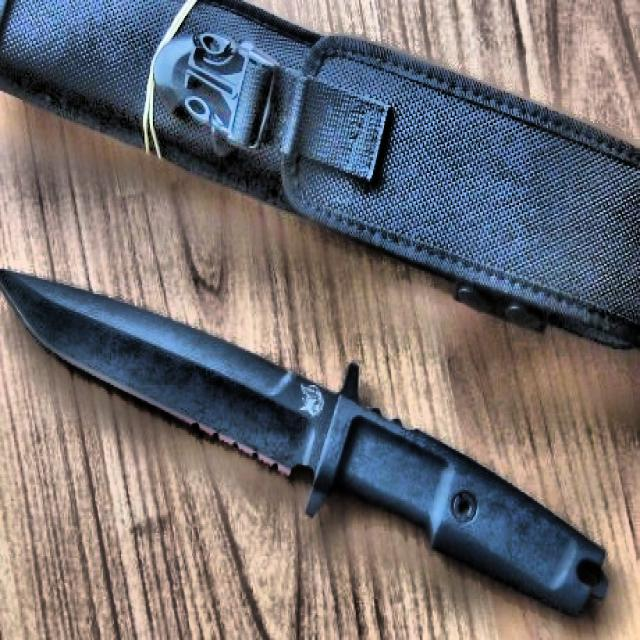knife: (0, 270, 608, 616)
